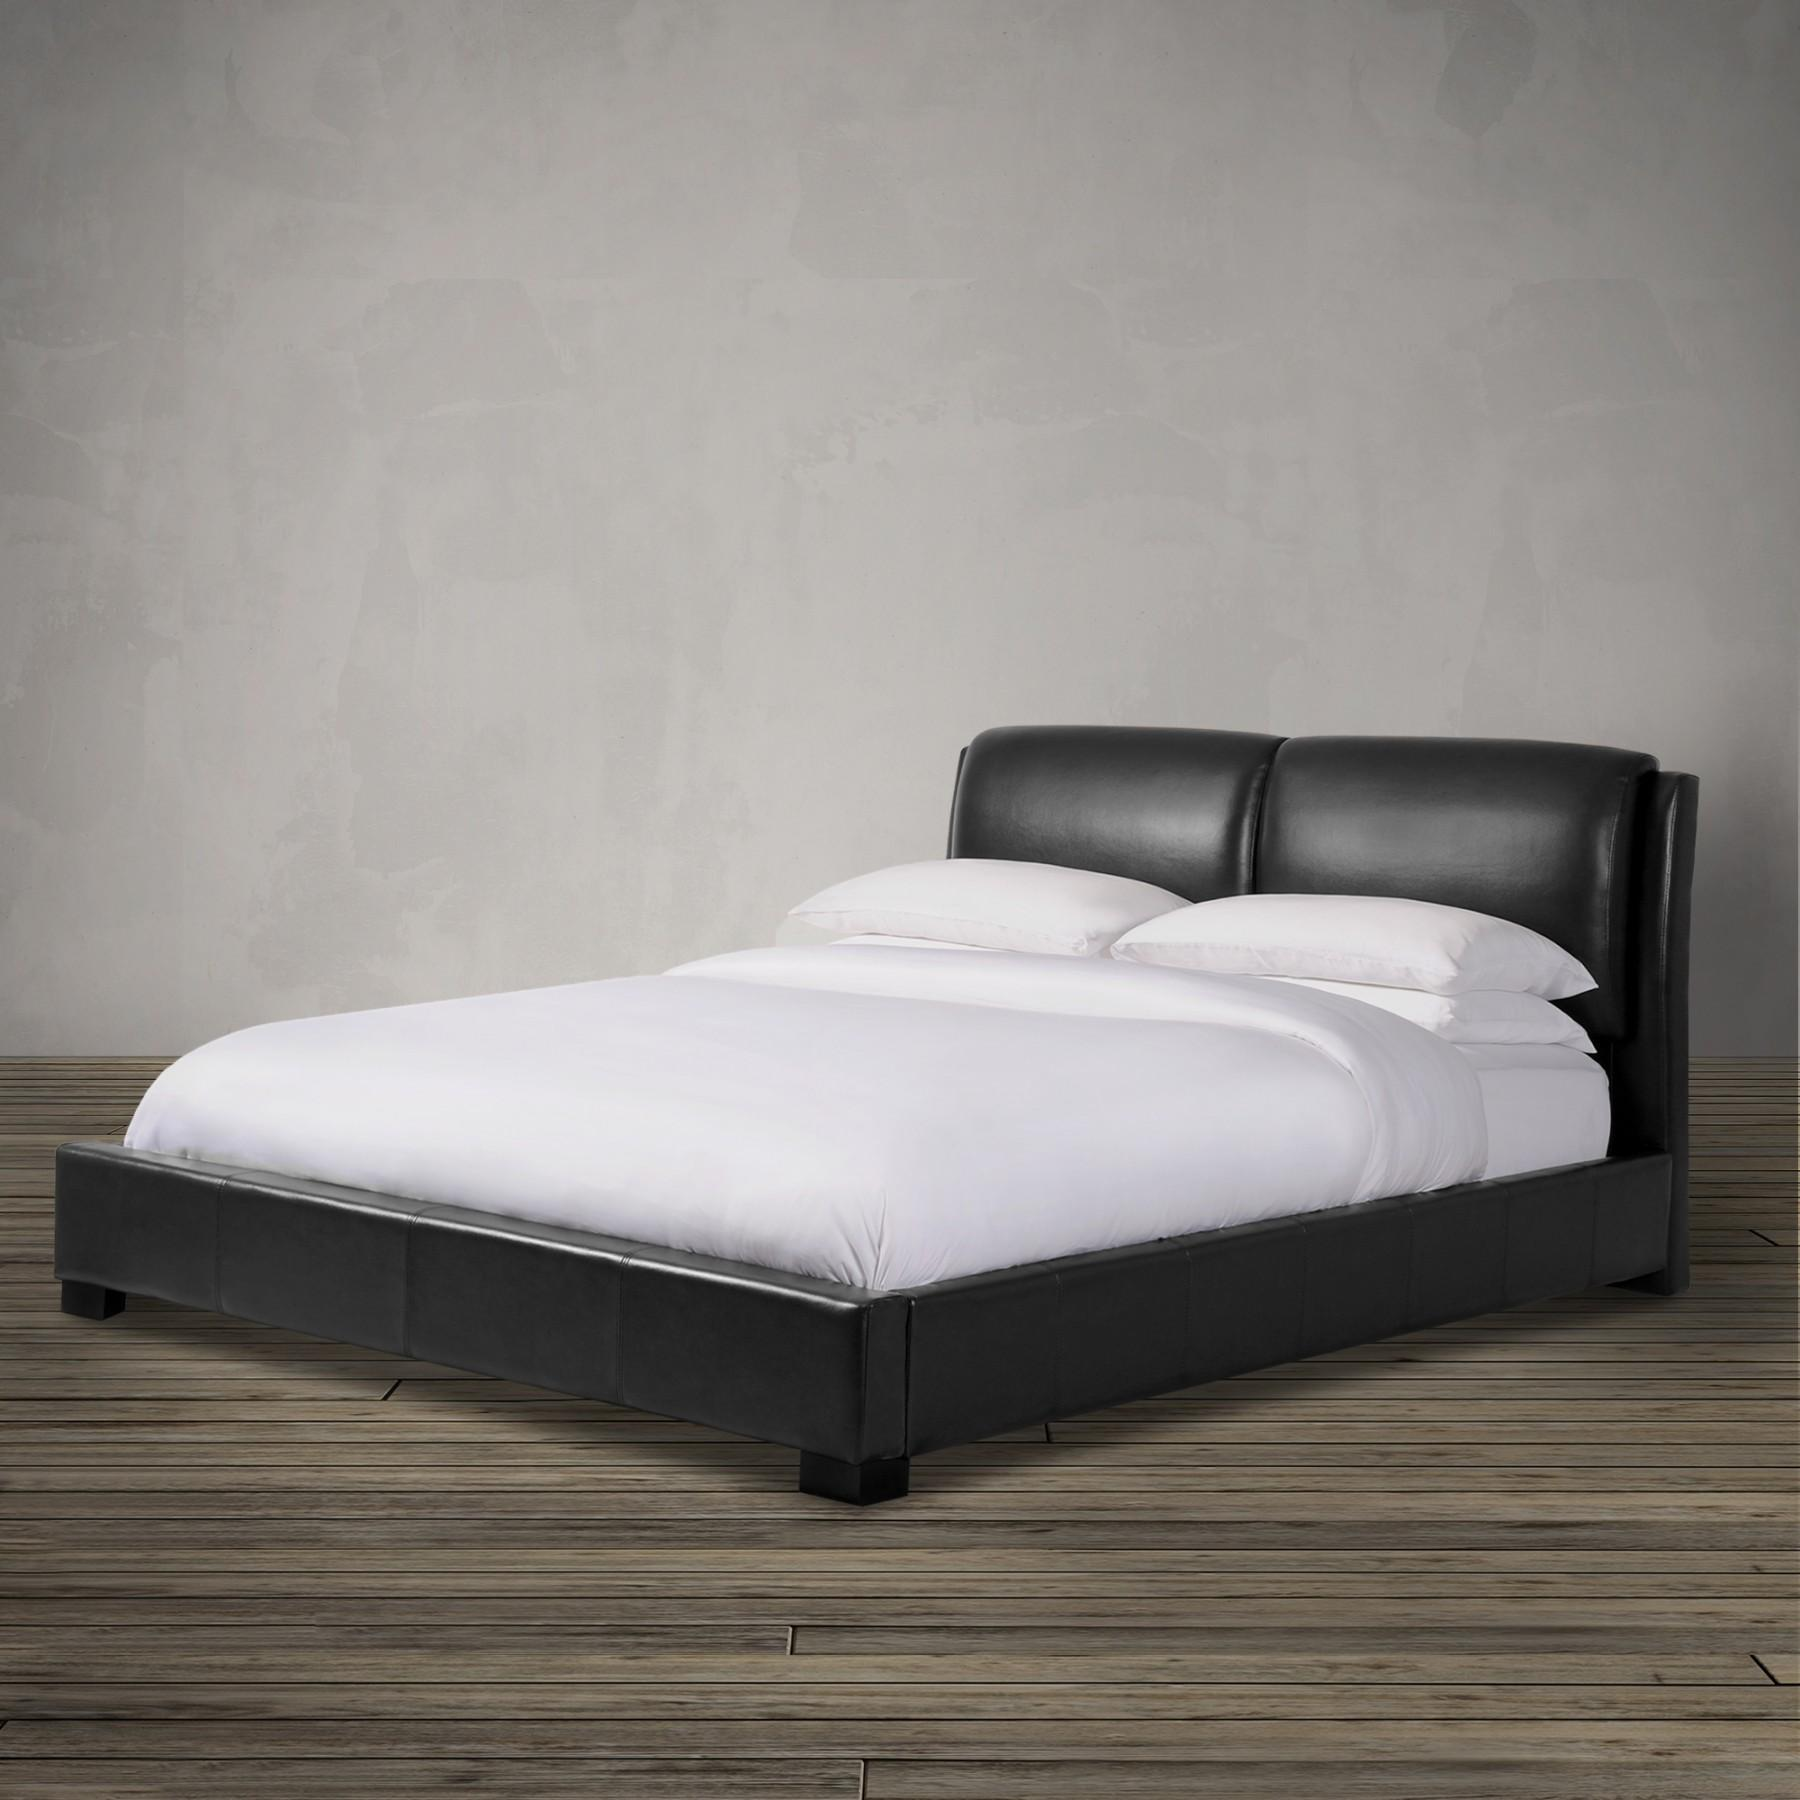bed: (251, 575, 1615, 1305)
